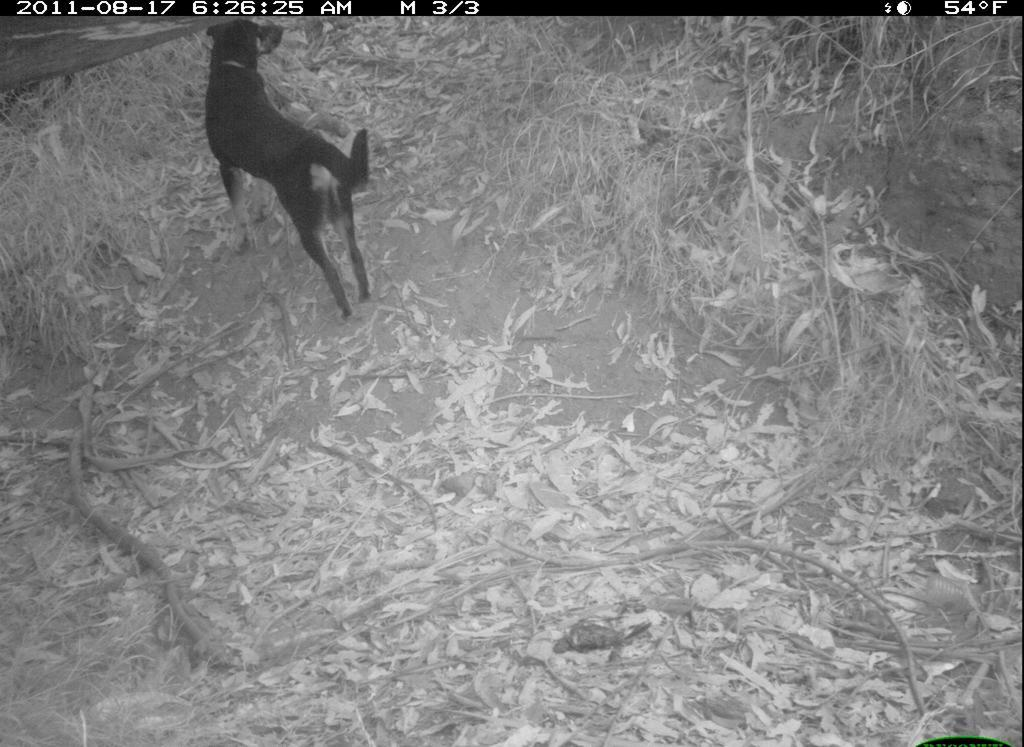dog: (162, 18, 457, 338)
